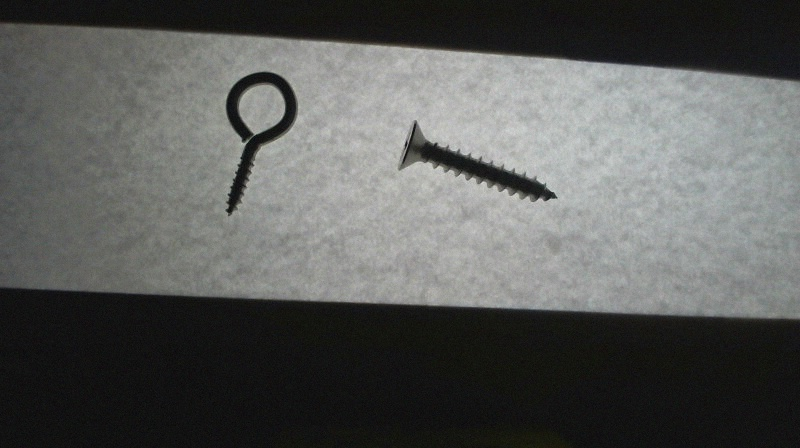O001: (209, 68, 300, 221)
S001: (394, 117, 562, 204)
